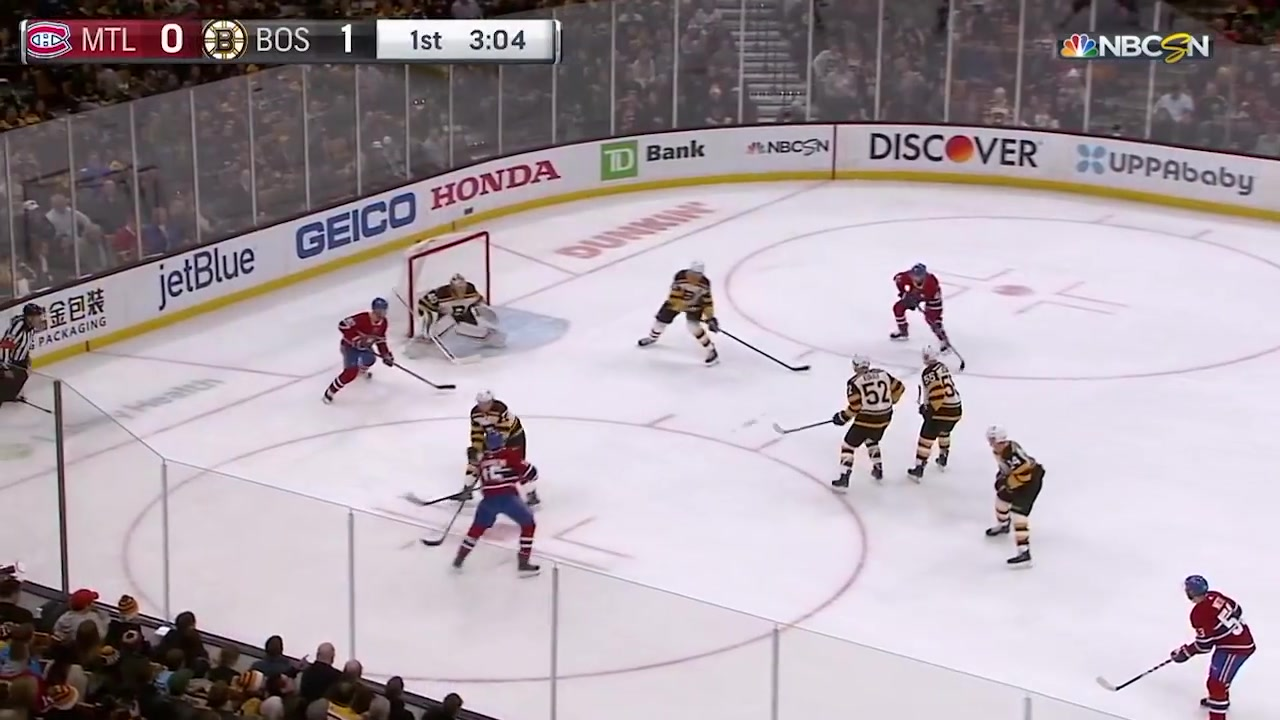geico: (287, 186, 428, 262)
